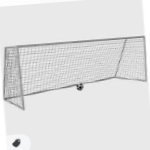goals: (2, 35, 150, 111)
